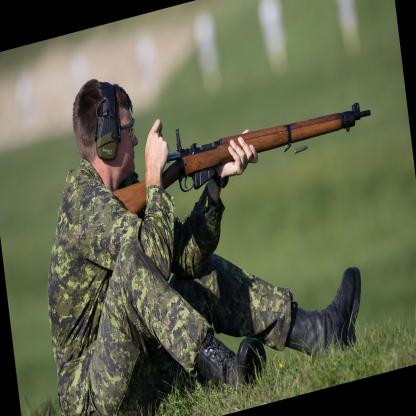rifle: (108, 94, 381, 226)
